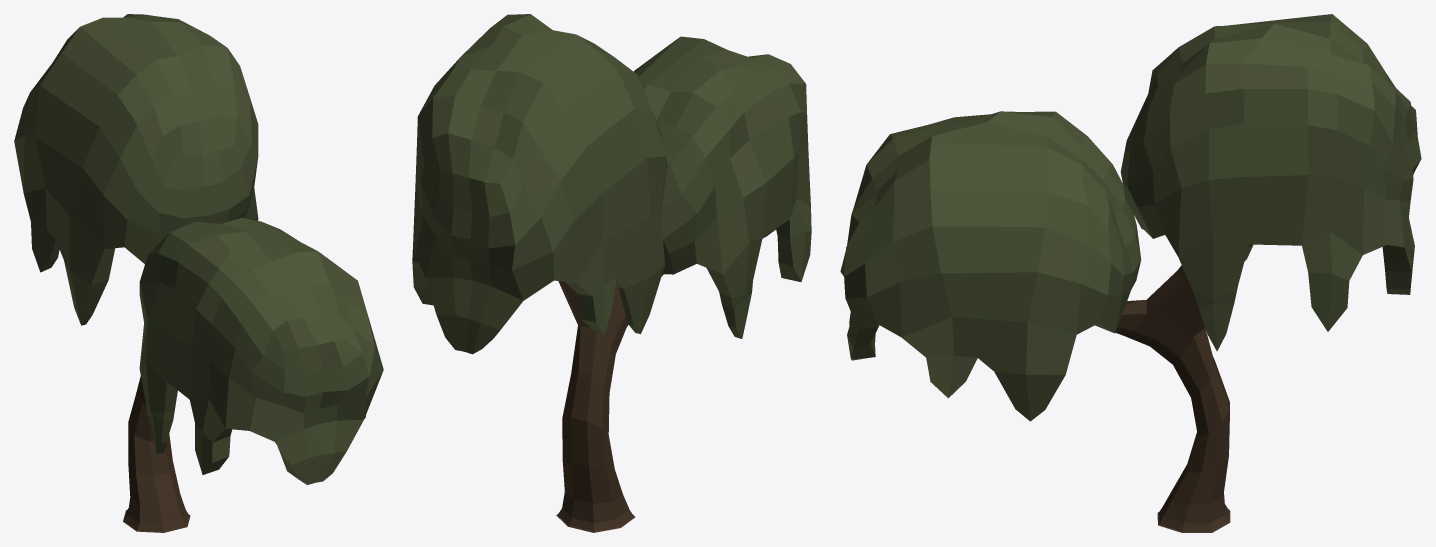
File: willow.001.fbx
3 views of the same model, side by side, from view 1: azimuth 30°, elevation 25°; view 2: azimuth 150°, elevation 25°; view 3: azimuth 270°, elevation 25° (orthographic). The views are drawn at different scales.
Visible parts, largest first — view 1: willow.001; view 2: willow.001; view 3: willow.001.
Boxes of the visible parts, box(x1,y1,x2,y2) form: willow.001: box(14, 14, 383, 532); willow.001: box(412, 14, 811, 532); willow.001: box(840, 14, 1421, 532).
Size of the model in its own units: 1.01 by 2.42 by 2.49.
